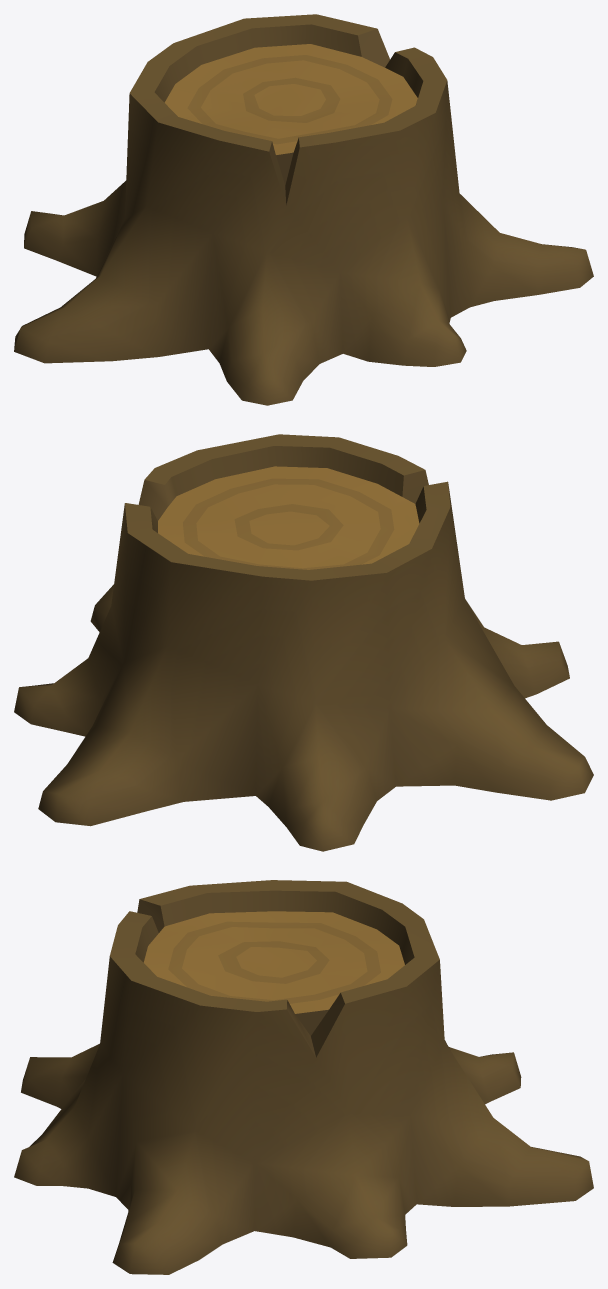
File: SM_Stump.fbx
3 renders of one model, top to bottom at view 1: azimuth 30°, elevation 25°; view 2: azimuth 150°, elevation 25°; view 3: azimuth 270°, elevation 25°, orthographic. The views are drawn at different scales.
Visible parts, largest first — view 1: SM_Stump; view 2: SM_Stump; view 3: SM_Stump.
Part boxes in pixels (x1,y1,x2,y2): SM_Stump: [14, 14, 593, 405]; SM_Stump: [14, 434, 593, 851]; SM_Stump: [14, 880, 593, 1274].
Bounding box in the file's own units: 103 × 38.84 × 95.71.
